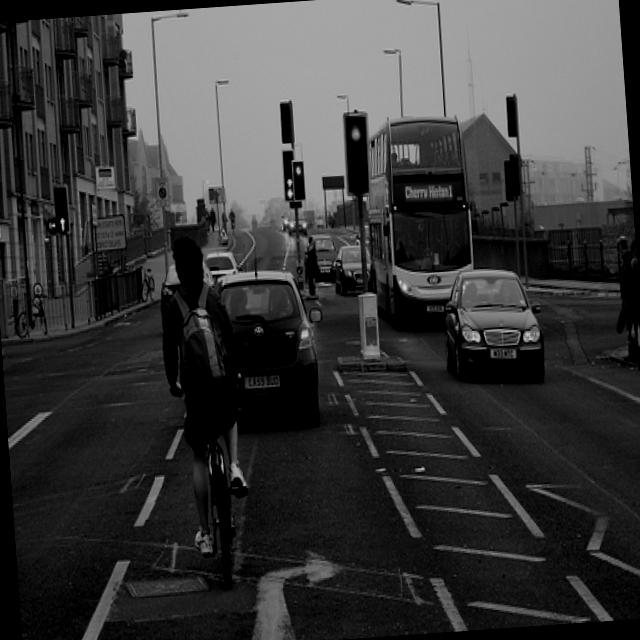Vehicle: (359, 112, 479, 329), (211, 270, 329, 430), (436, 268, 546, 391), (301, 232, 340, 286), (332, 244, 372, 296), (156, 264, 184, 330), (200, 249, 242, 287), (281, 210, 291, 230)
